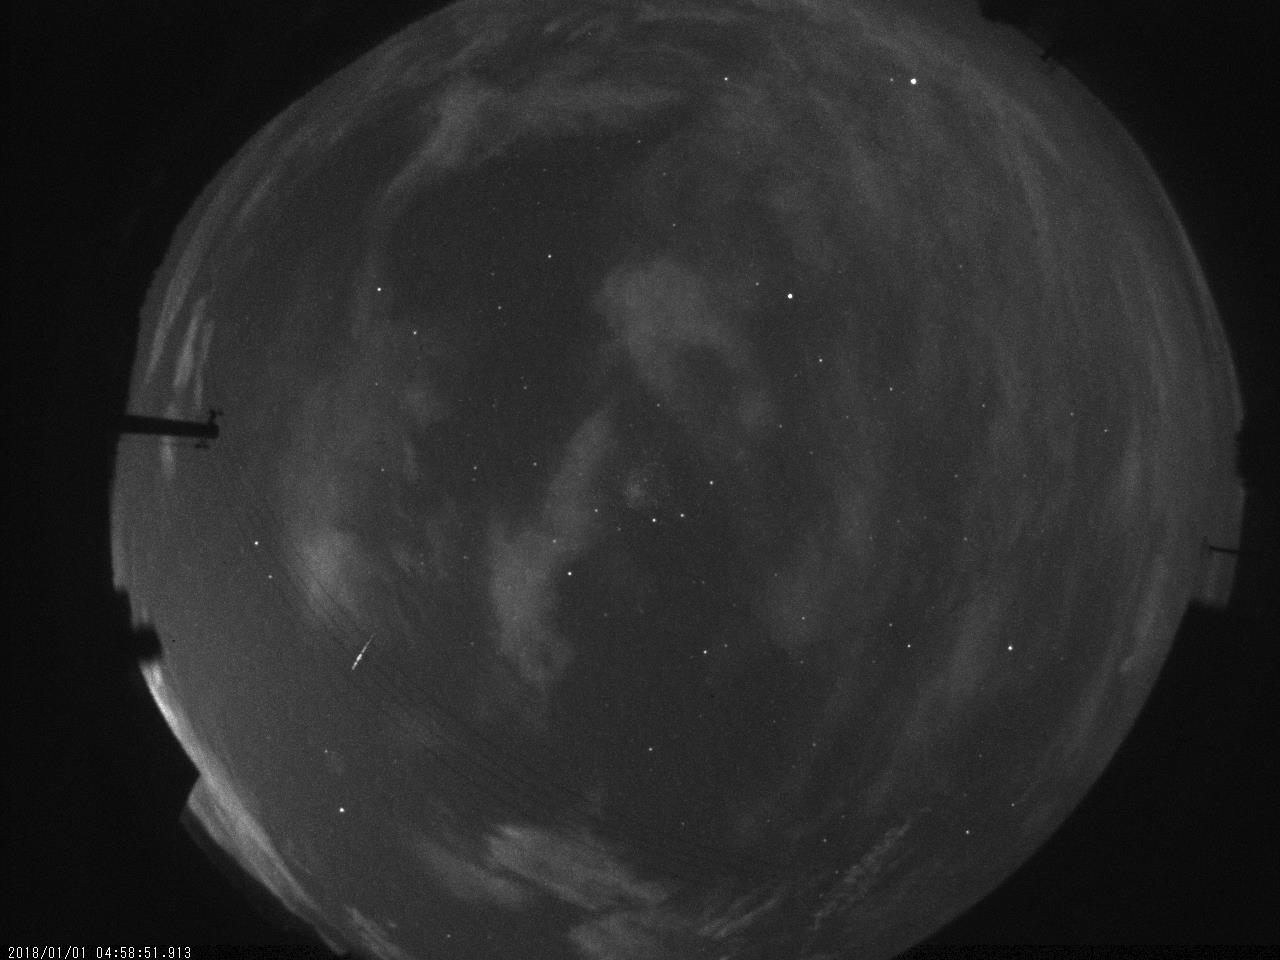meteor: (333, 626, 389, 682)
